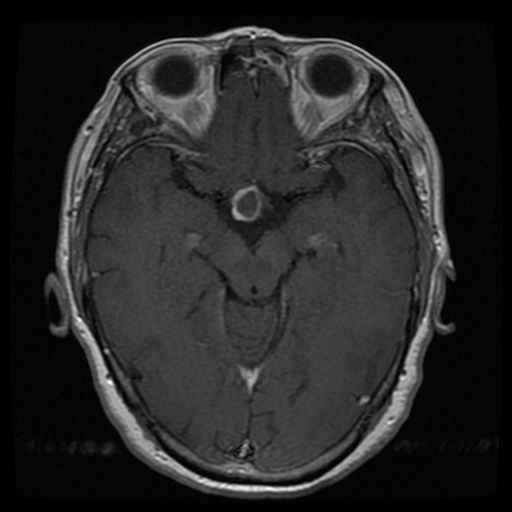pituitary: (231, 185, 262, 220)
